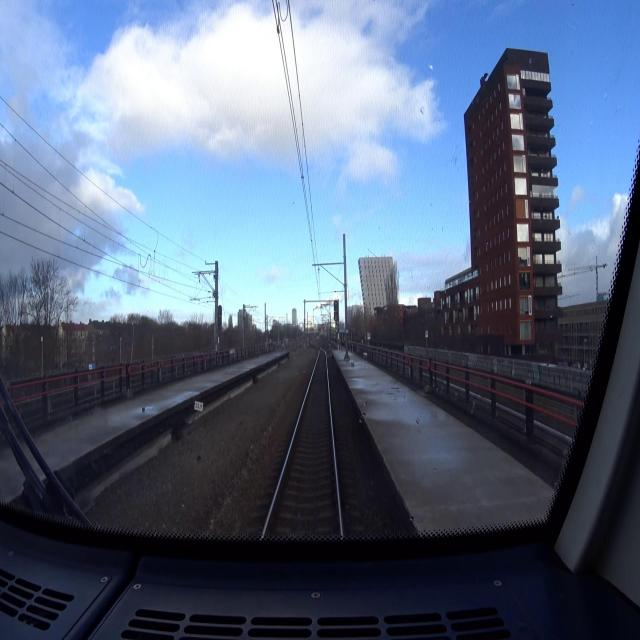rail-track: (265, 352, 339, 539)
